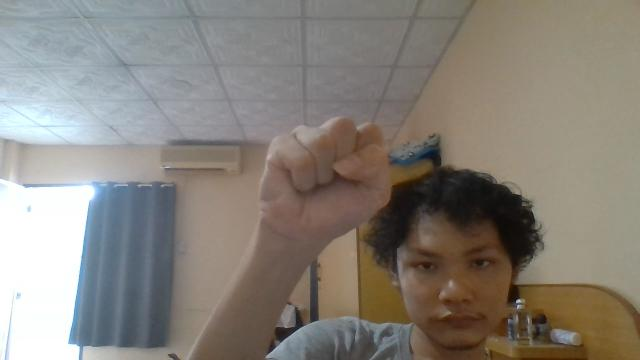forward: (258, 115, 392, 259)
